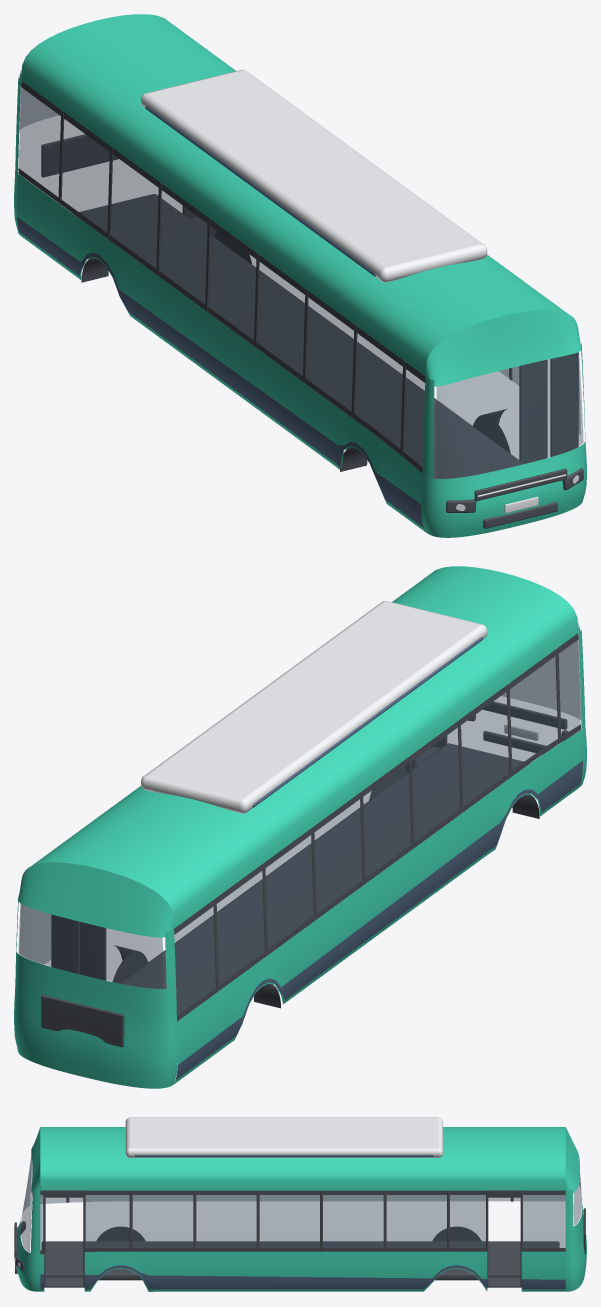
File: bus_electro.glb
3 renders of one model, top to bottom at view 1: azimuth 30°, elevation 25°; view 2: azimuth 150°, elevation 25°; view 3: azimuth 270°, elevation 25°, orthographic. The views are drawn at different scales.
Parts seen in each view (by area): view 1: PaintShell, CabinGlass, DarkTrim, RoofPod, AccentShell; view 2: PaintShell, DarkTrim, CabinGlass, RoofPod, AccentShell; view 3: PaintShell, CabinGlass, DarkTrim, RoofPod, AccentShell.
Boxes of the visible parts, left/top/right/bottom form: PaintShell: left=14, top=14, right=586, bottom=537; CabinGlass: left=19, top=87, right=583, bottom=478; DarkTrim: left=18, top=81, right=583, bottom=528; RoofPod: left=141, top=69, right=487, bottom=282; AccentShell: left=17, top=106, right=423, bottom=527; PaintShell: left=14, top=566, right=586, bottom=1088; DarkTrim: left=41, top=633, right=580, bottom=1047; CabinGlass: left=18, top=639, right=580, bottom=1015; RoofPod: left=141, top=601, right=487, bottom=813; AccentShell: left=176, top=637, right=582, bottom=1079; PaintShell: left=15, top=1127, right=586, bottom=1291; CabinGlass: left=21, top=1155, right=581, bottom=1251; DarkTrim: left=14, top=1190, right=585, bottom=1287; RoofPod: left=125, top=1117, right=442, bottom=1157; AccentShell: left=40, top=1154, right=565, bottom=1289.
Size of the model in its own units: 2.62 by 3.18 by 12.28.
